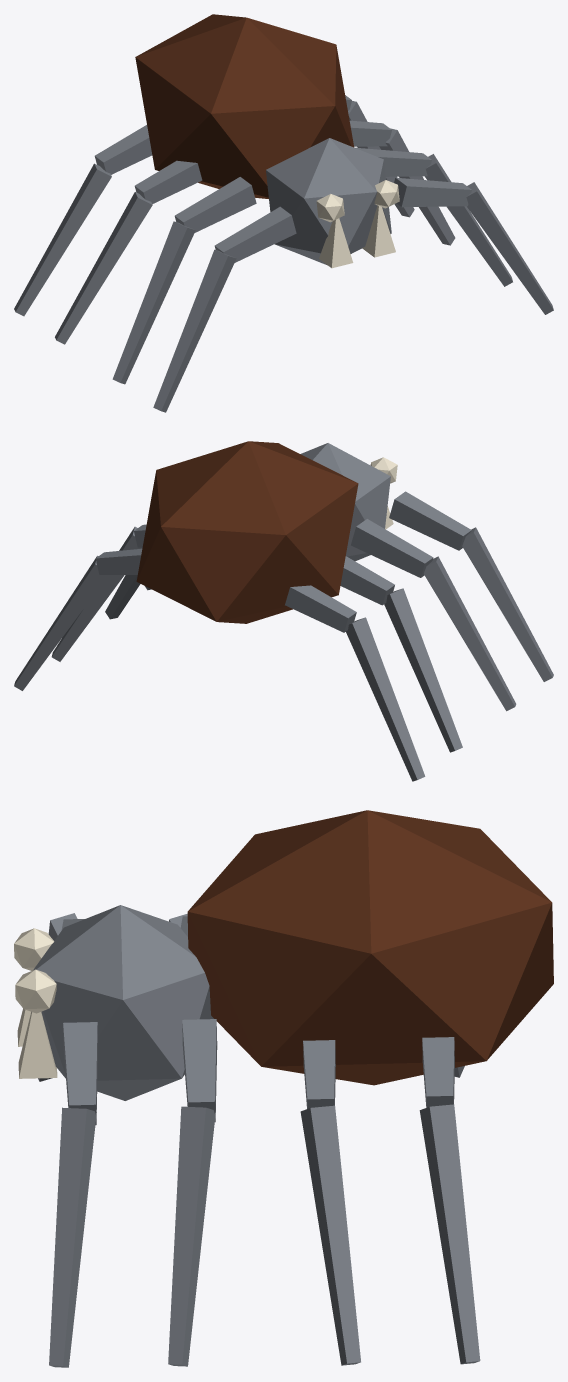
The model's file is npcpose_spider_idle_04.glb.
The picture shows the model from 3 angles, top to bottom: view 1: azimuth 30°, elevation 25°; view 2: azimuth 150°, elevation 25°; view 3: azimuth 270°, elevation 25°; orthographic projection. The views are drawn at different scales.
Parts seen in each view (by area): view 1: npcpose; view 2: npcpose; view 3: npcpose.
Boxes of the visible parts, x1,y1,x2,y2 form: npcpose: (14,14,553,412); npcpose: (14,441,553,781); npcpose: (14,810,553,1367).
Bounding box in the file's own units: 1.33 × 0.839 × 0.9971.
